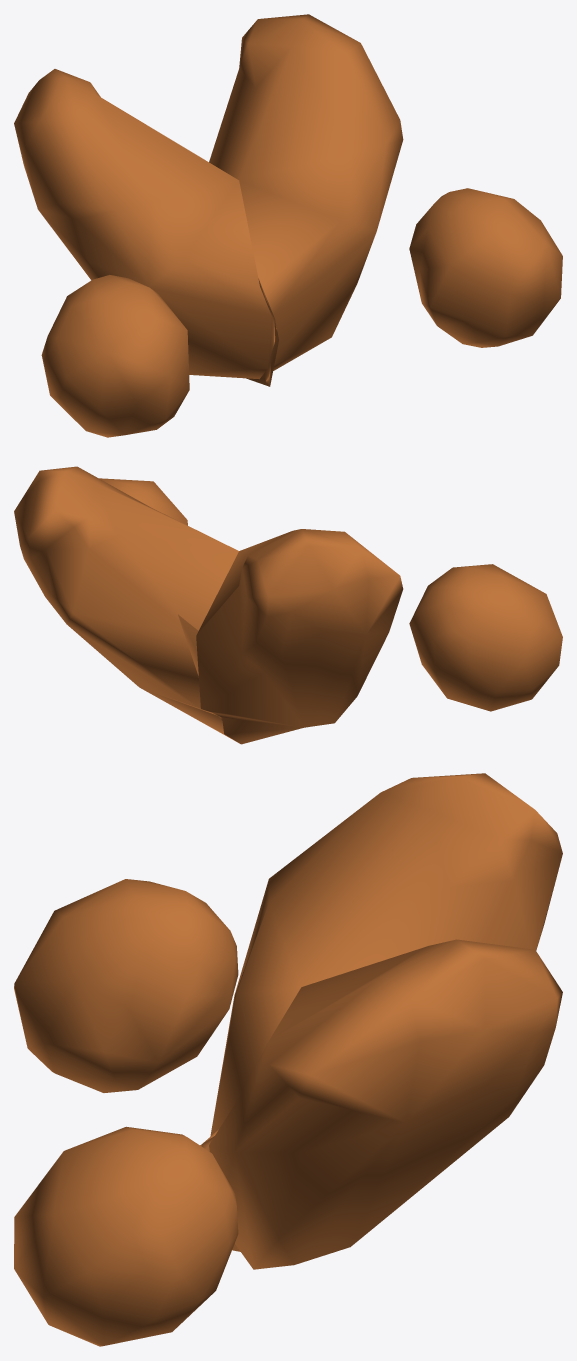
File: Habenula.glb
3 renders of one model, top to bottom at view 1: azimuth 30°, elevation 25°; view 2: azimuth 150°, elevation 25°; view 3: azimuth 270°, elevation 25°, orthographic. The views are drawn at different scales.
Visible parts, largest first — view 1: Habenula_grp1.095; view 2: Habenula_grp1.095; view 3: Habenula_grp1.095.
Part boxes in pixels (x1,y1,x2,y2): Habenula_grp1.095: (14,14,562,437); Habenula_grp1.095: (14,466,562,744); Habenula_grp1.095: (14,773,562,1346).
Size of the model in its own units: 0.00734 by 0.00402 by 0.00495.
